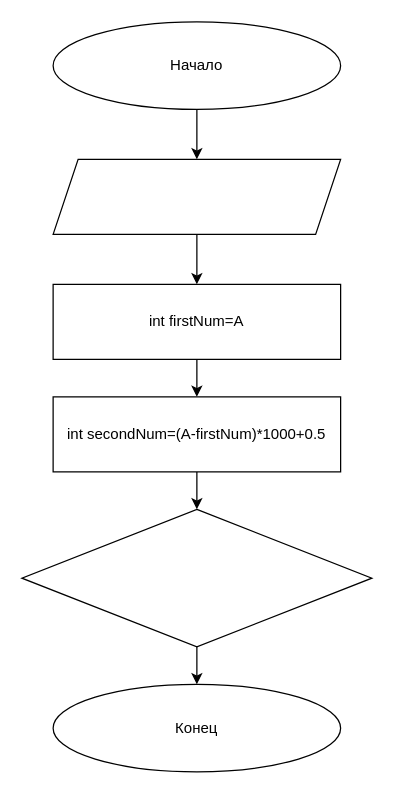
Some shapes in this 394 by 794 pixel diagram are drawn without their labels. Here are the shapes that lost their labels. From the top down, the centre of each, then its label:
At pixel 196 196: "float A".
At pixel 196 577: "float result = secondNum + firstNum / 100.".
